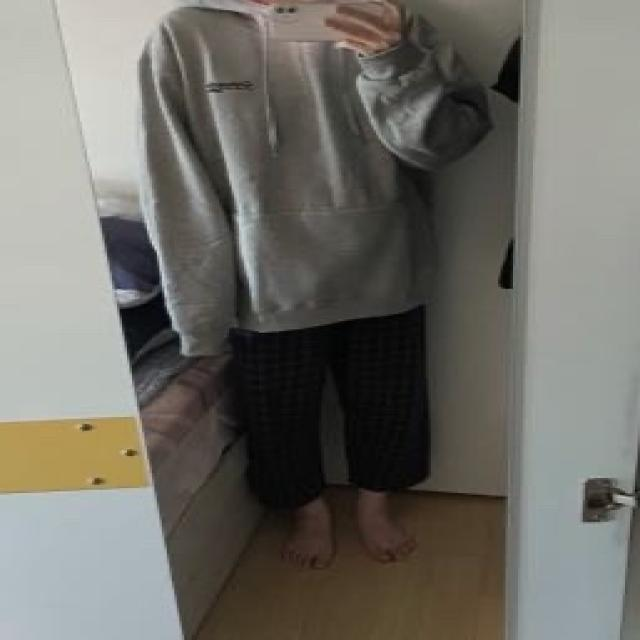hoodies: (139, 0, 499, 351)
slacks: (220, 304, 428, 512)
